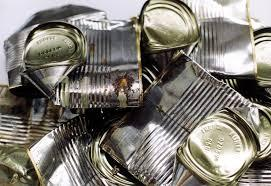Tin: (3, 1, 271, 186)
